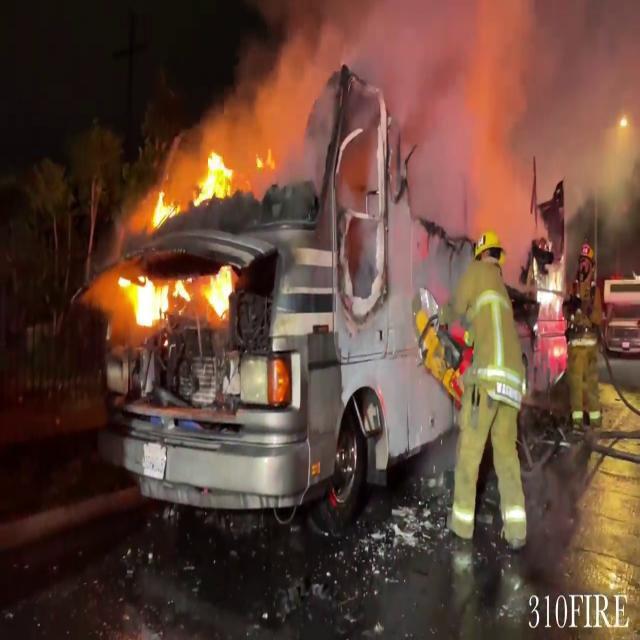Fire: (115, 142, 249, 334)
